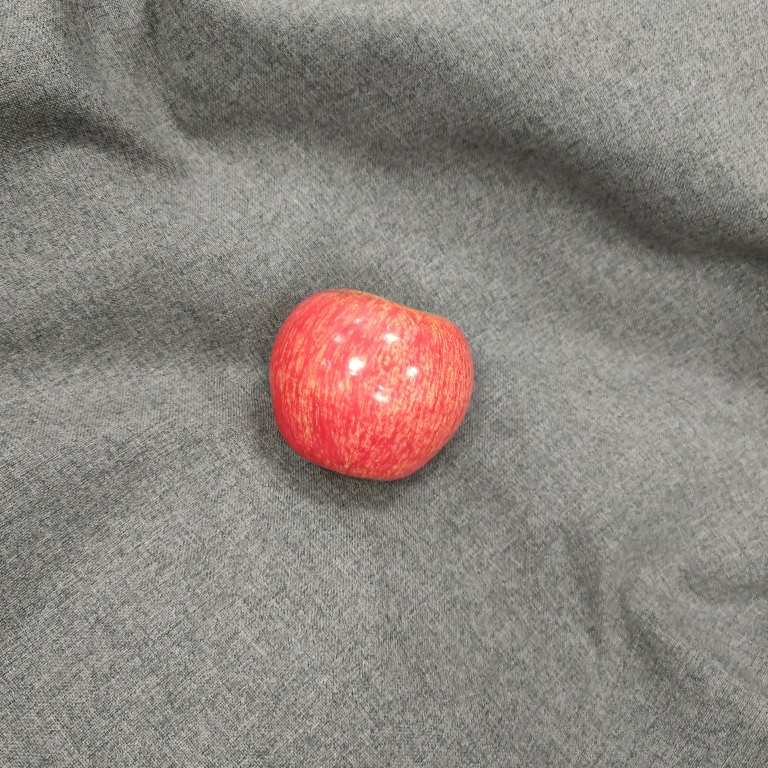fruit_apple: (266, 285, 477, 487)
